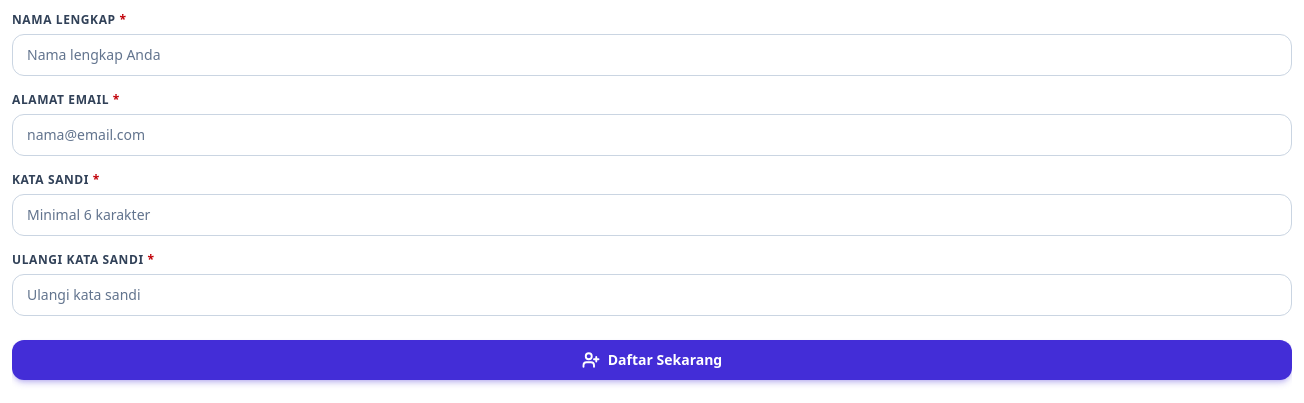
RegisterPage › menampilkan status loading selama proses registrasi
The image size is (1304, 403).
Type "rahasia" into the password field with test id "register-password-input" at coordinates (652, 215), box [12,194,1292,236]
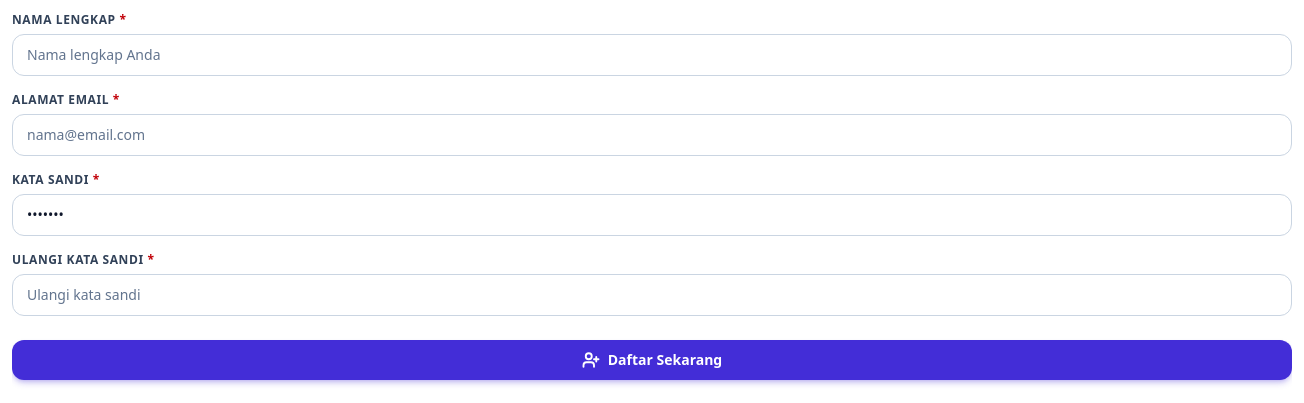
Type "rahasia" into the password field with test id "register-confirm-input" at coordinates (652, 295), box [12,274,1292,316]
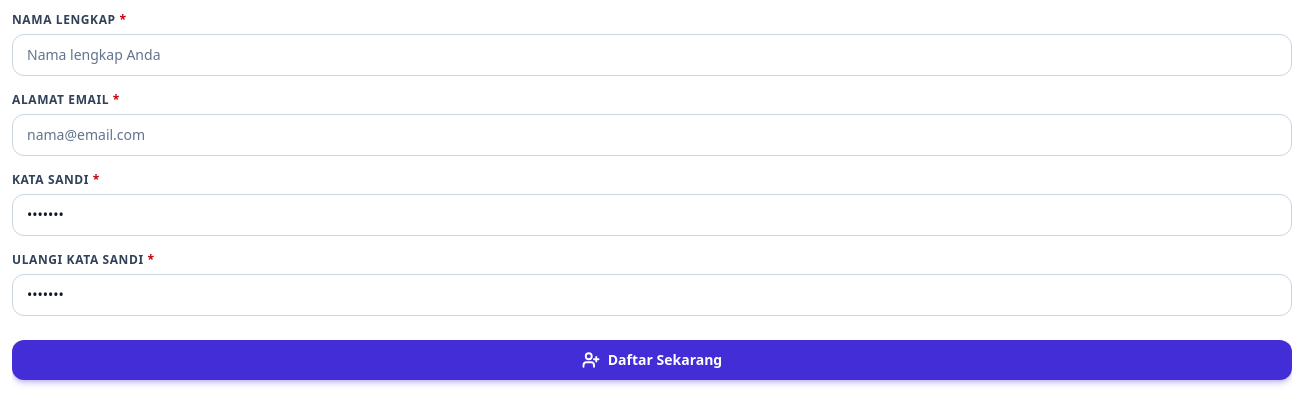
Submit the form
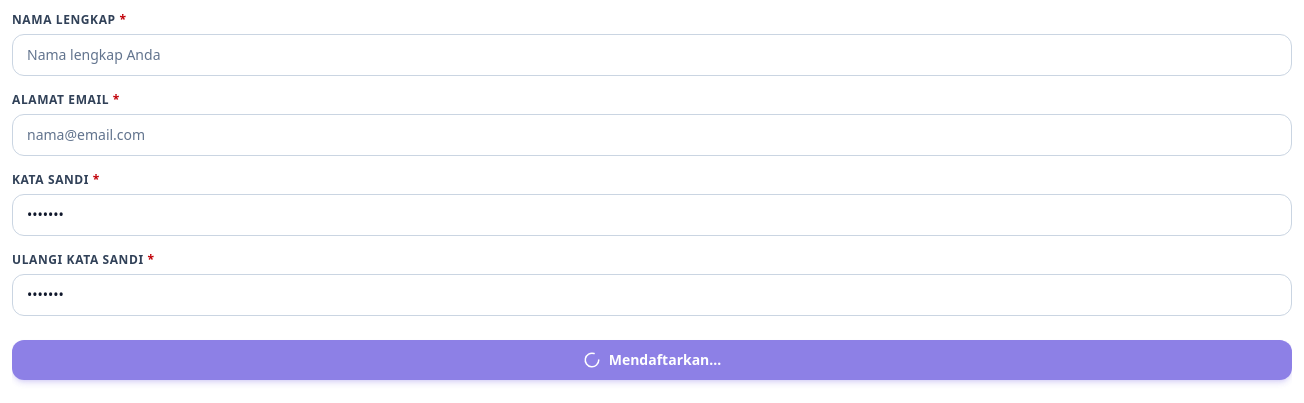
Expected: the button with test id "register-submit-button" reads "Mendaftarkan...", [12,340,1292,380]
Expected: the button with test id "register-submit-button" is disabled, [12,340,1292,380]
